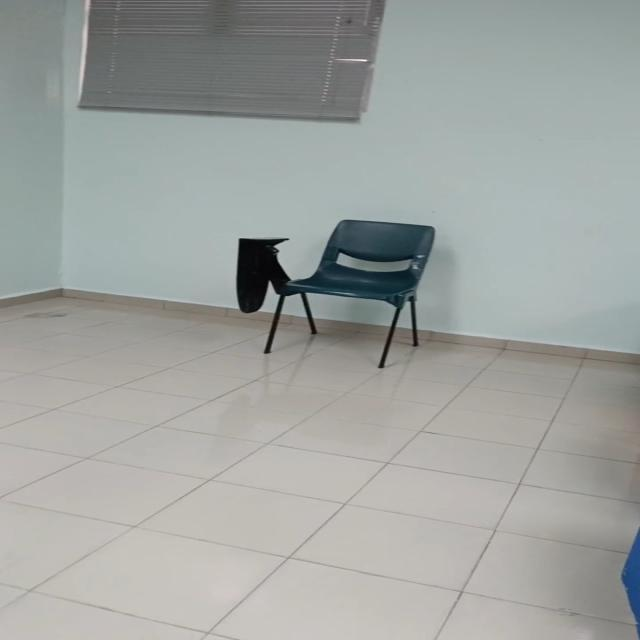sandalye: (264, 220, 435, 368)
